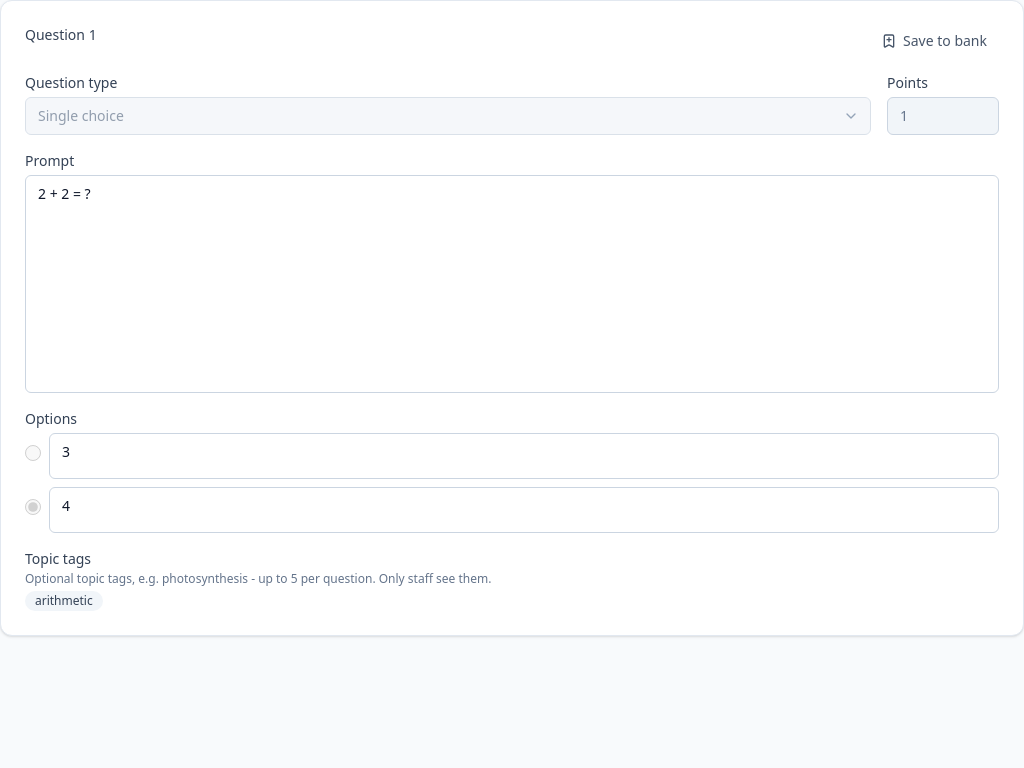
it: QuestionEditor's bank actions › saves the card's current question to the bank, even while the questions are read-only
Click the button with aria-label "Save question 1 to the bank".
click(934, 41)  # box [869,25,999,57]
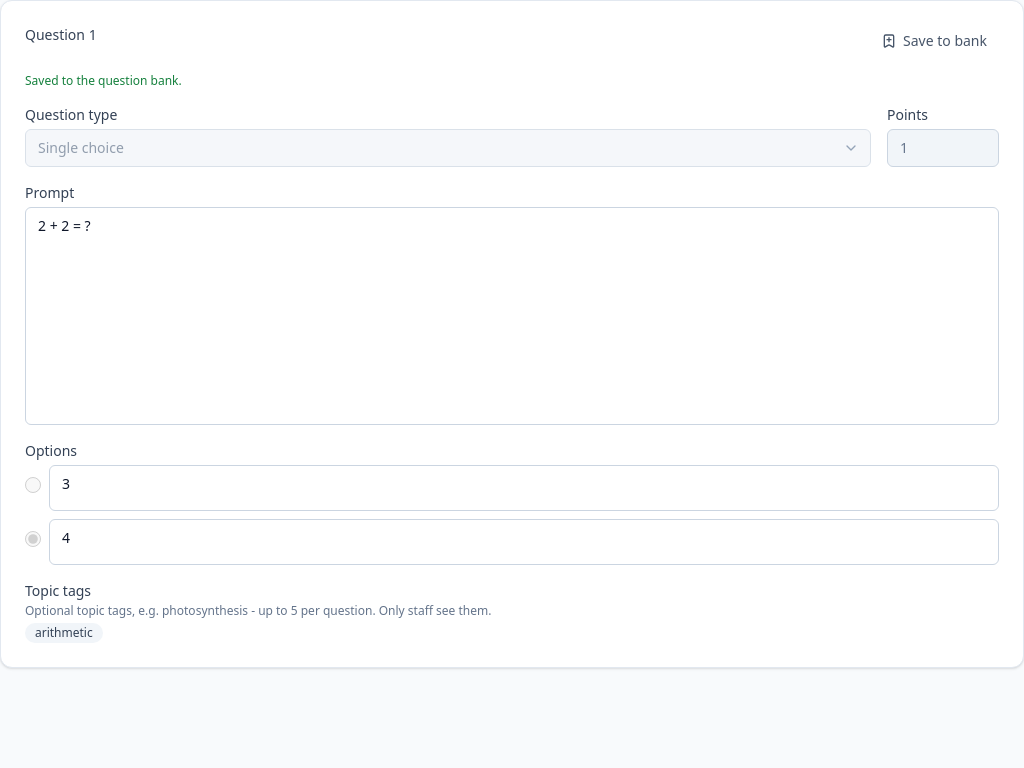
Check: the text "Saved to the question bank." is shown, box [25,72,182,89]
